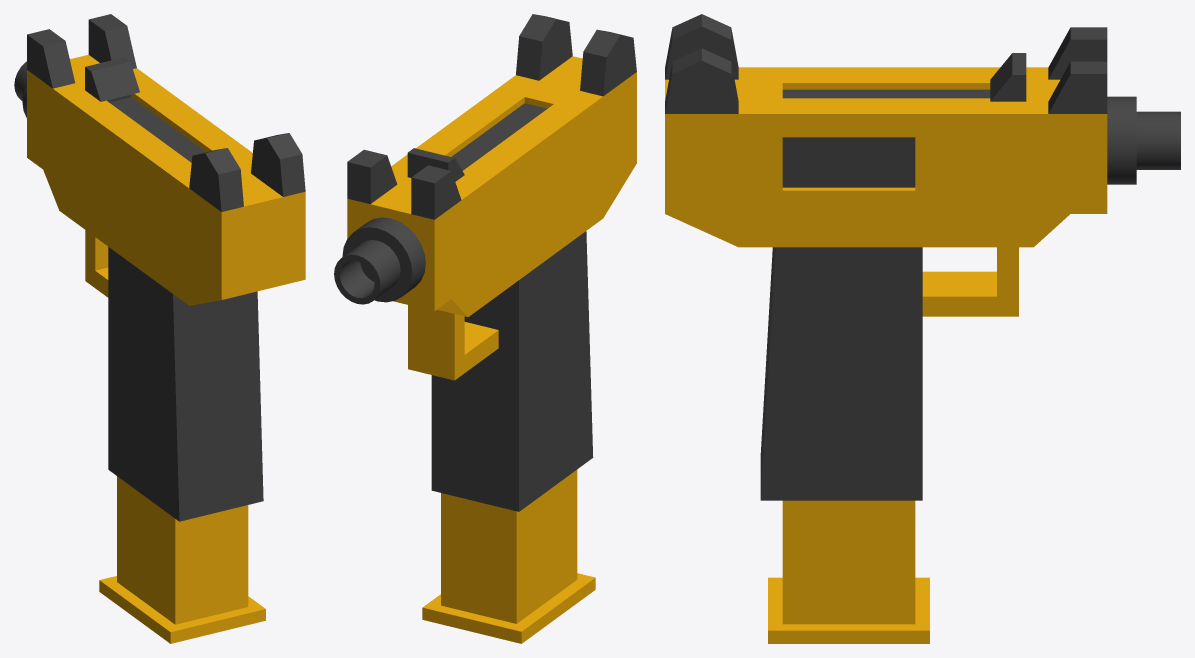
Rendered from uziGold.obj.
The picture shows the model from 3 angles, left to right: view 1: azimuth 30°, elevation 25°; view 2: azimuth 150°, elevation 25°; view 3: azimuth 270°, elevation 25°; orthographic projection. The views are drawn at different scales.
Visible parts, largest first — view 1: Group; view 2: Group; view 3: Group.
Part boxes in pixels (x1,y1,x2,y2): Group: (14, 14, 305, 643); Group: (334, 14, 636, 643); Group: (665, 14, 1180, 643).
Bounding box in the file's own units: 0.0651 × 0.333 × 0.2683.
